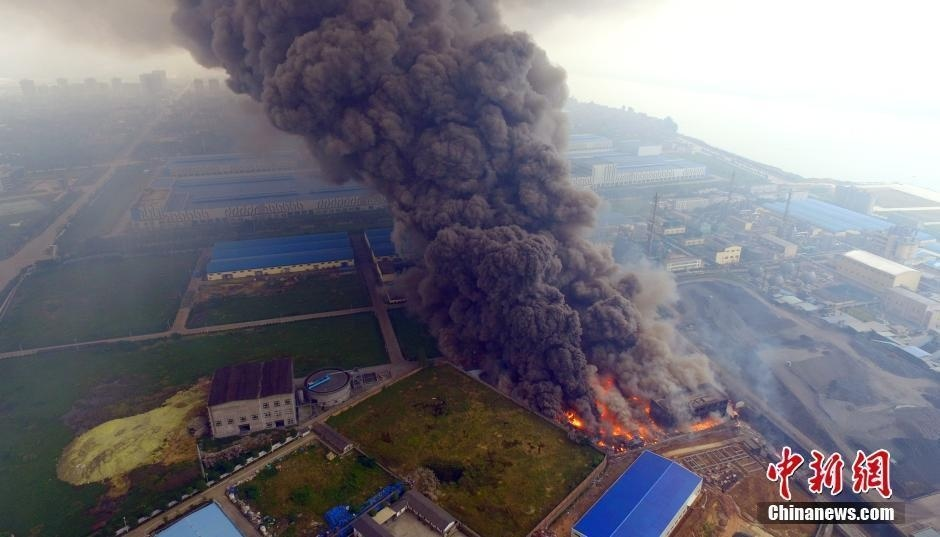fire: (565, 376, 663, 451)
